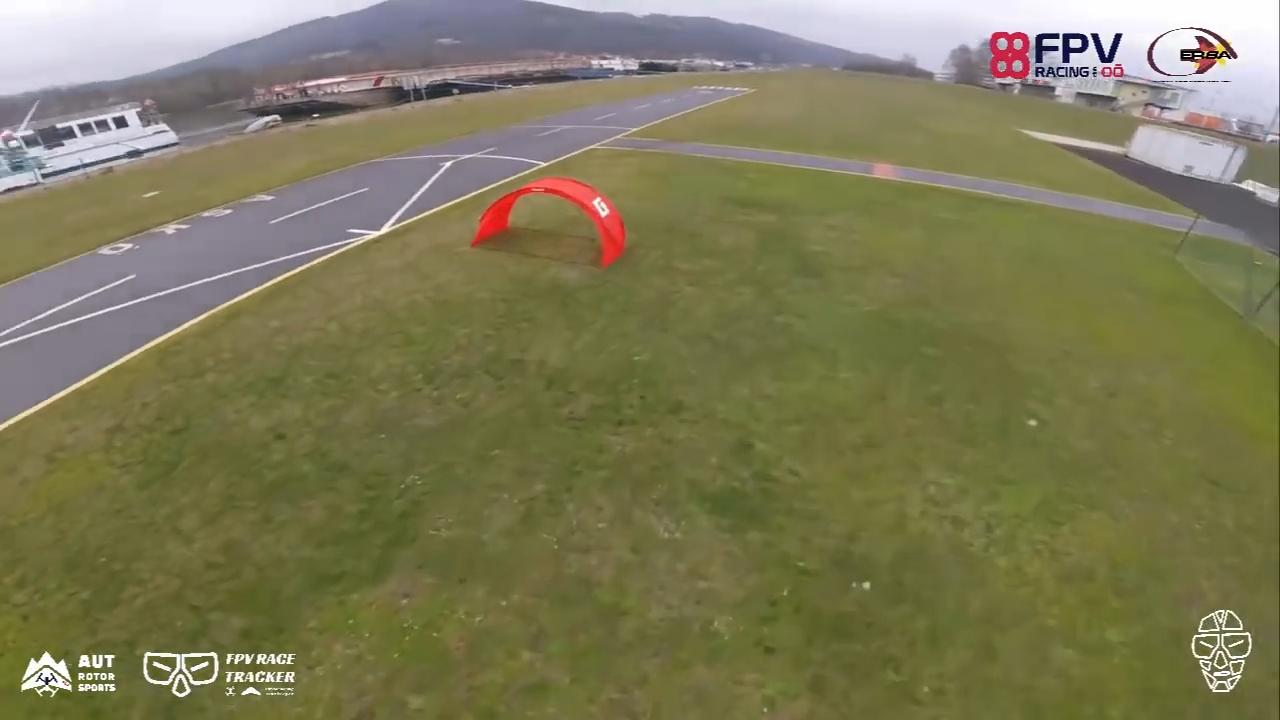gate: (469, 178, 627, 273)
